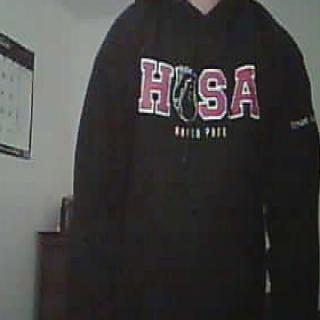HOSA Hoodie: (82, 0, 316, 320)
